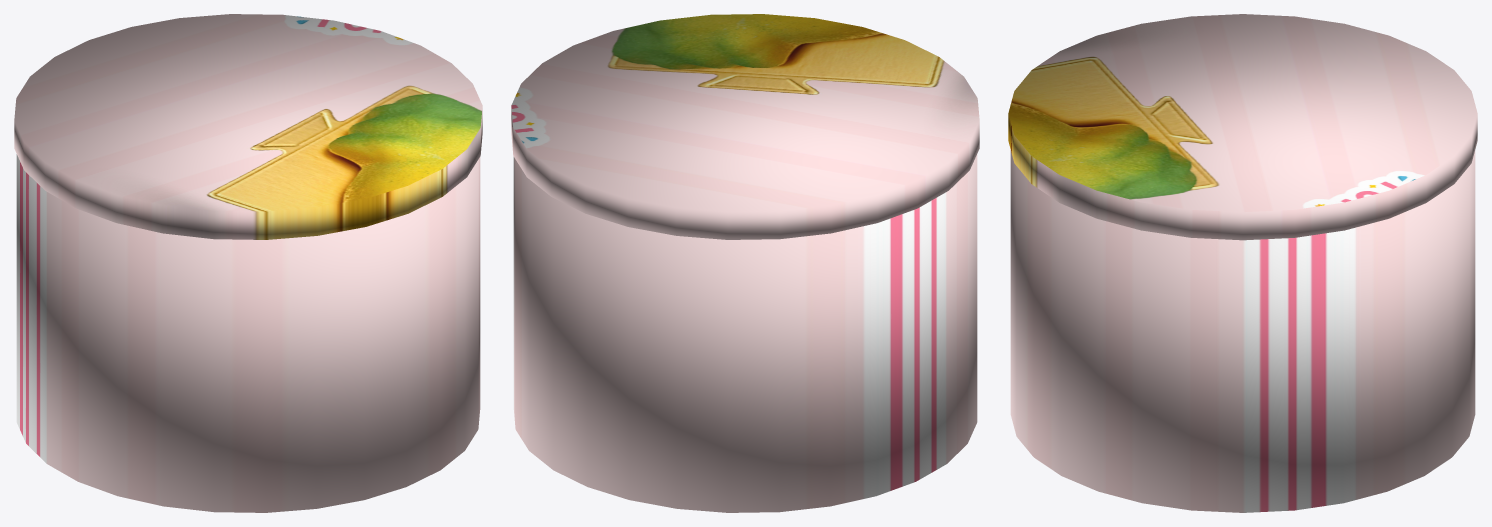
File: prop_pineapple_entremet.glb
The picture shows the model from 3 angles, left to right: view 1: azimuth 30°, elevation 25°; view 2: azimuth 150°, elevation 25°; view 3: azimuth 270°, elevation 25°; orthographic projection.
Parts seen in each view (by area): view 1: prop_pineapple_entremet; view 2: prop_pineapple_entremet; view 3: prop_pineapple_entremet.
Boxes of the visible parts, x1,y1,x2,y2 form: prop_pineapple_entremet: (14,14,482,512); prop_pineapple_entremet: (511,14,979,512); prop_pineapple_entremet: (1008,14,1477,512).
Bounding box in the file's own units: 0.1212 × 0.086 × 0.1212.
1 material, 1 textured.
